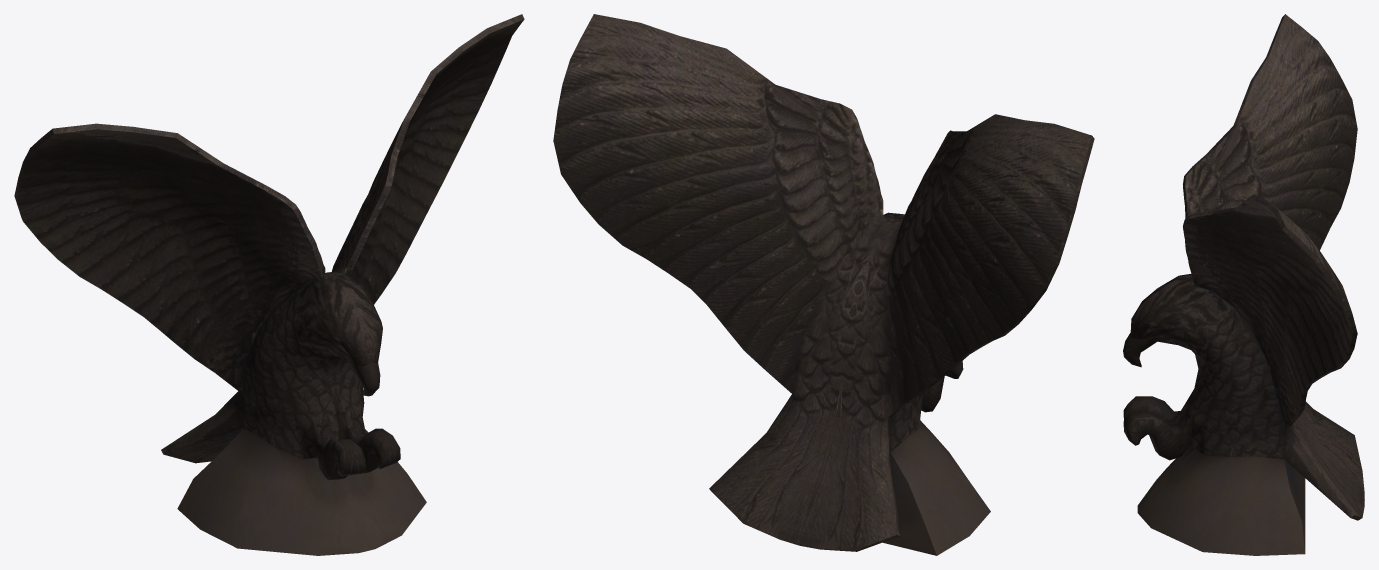
File: Statue03.FBX
3 views of the same model, side by side, from view 1: azimuth 30°, elevation 25°; view 2: azimuth 150°, elevation 25°; view 3: azimuth 270°, elevation 25° (orthographic). The views are drawn at different scales.
Parts seen in each view (by area): view 1: Statue03; view 2: Statue03; view 3: Statue03.
Part boxes in pixels (bbox=[...]): Statue03: bbox=[14, 14, 524, 555]; Statue03: bbox=[553, 14, 1094, 555]; Statue03: bbox=[1123, 14, 1364, 555].
Size of the model in its own units: 0.5611 by 0.4687 by 0.2636.
